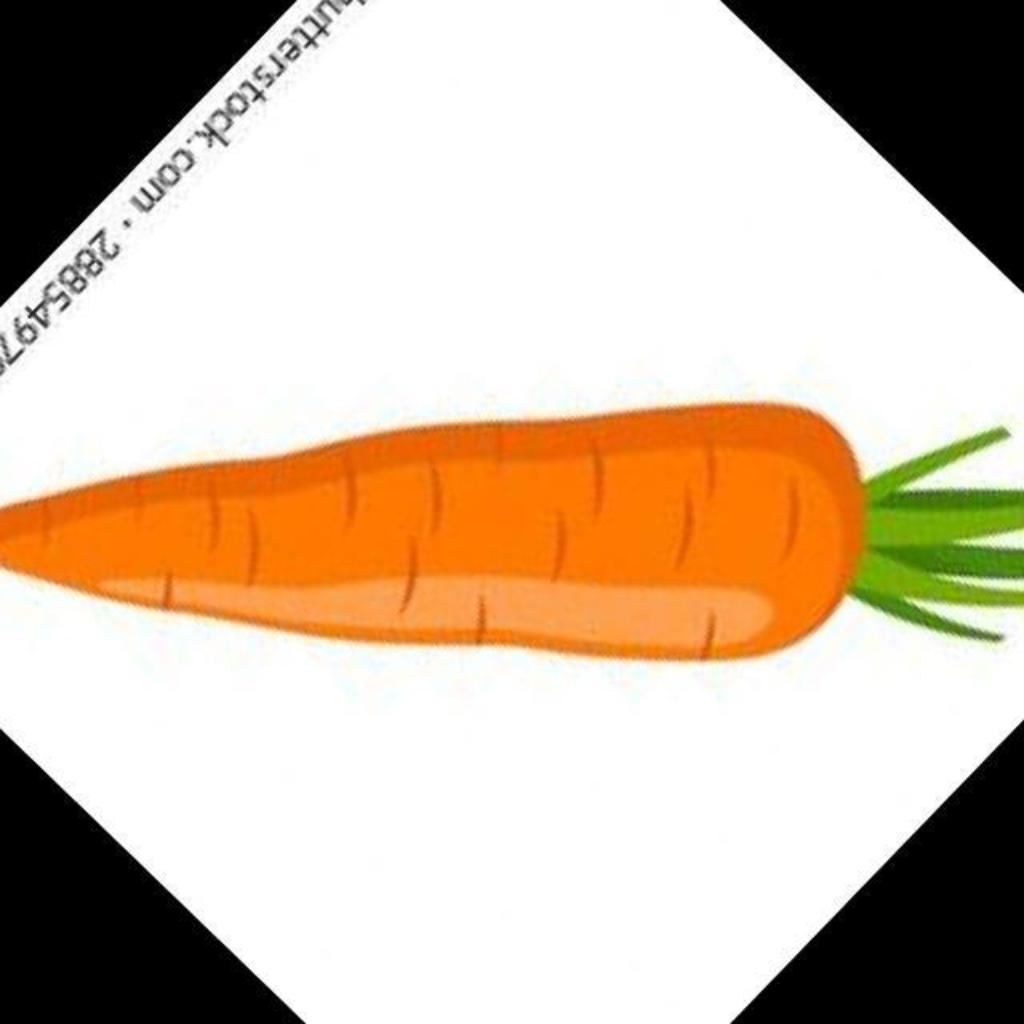carrot: (0, 404, 1024, 659)
